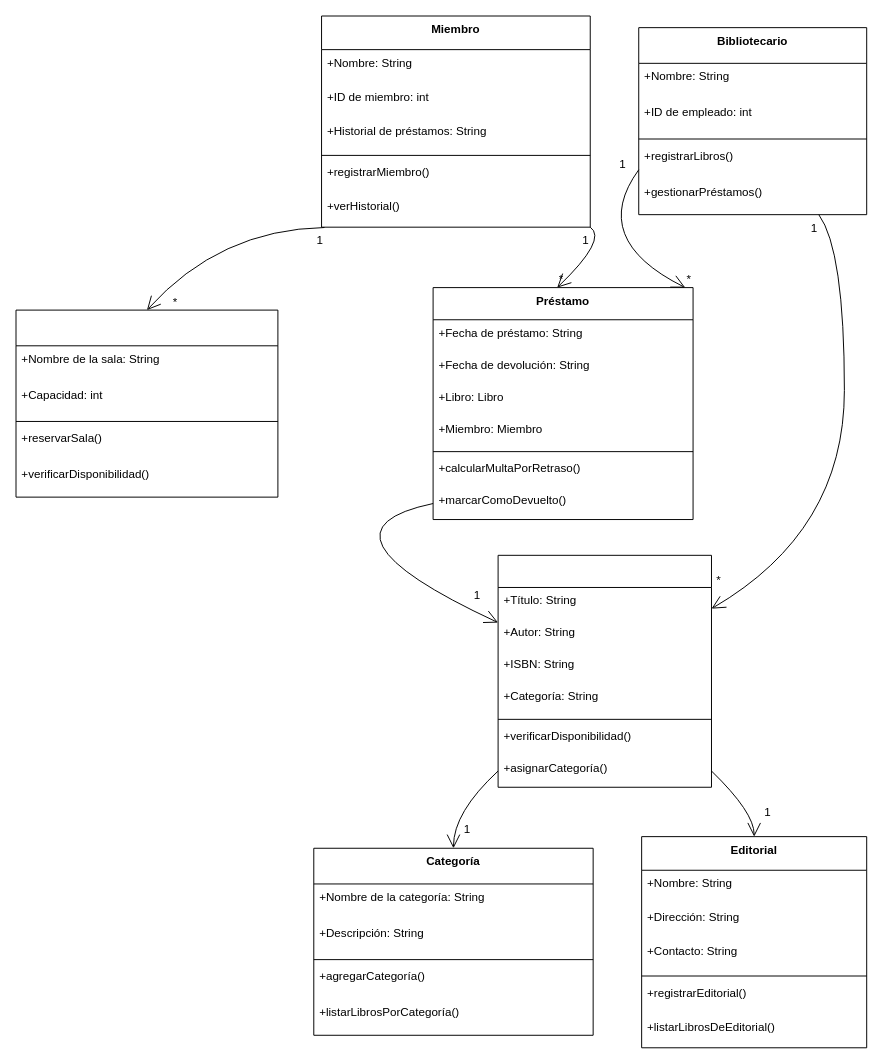
Image size: 883x1064. Some labels were removed from this diagram. The box of each missing label's shape, as (x1, y1, x2, y2) in pixels:
Libro: (497, 554, 711, 787)
SalaDeLectura: (15, 309, 278, 497)
